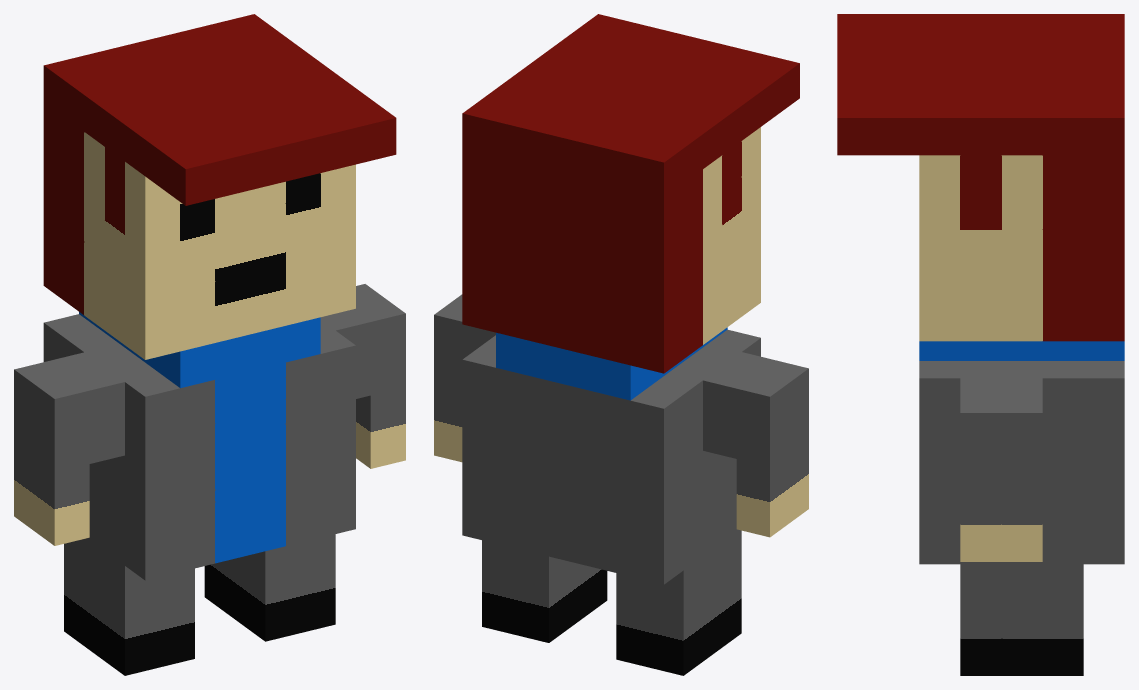
File: David.fbx
3 renders of one model, left to right at view 1: azimuth 30°, elevation 25°; view 2: azimuth 150°, elevation 25°; view 3: azimuth 270°, elevation 25°, orthographic. The views are drawn at different scales.
Parts seen in each view (by area): view 1: David; view 2: David; view 3: David.
Part boxes in pixels (left/top/right/bottom): David: left=14, top=14, right=405, bottom=675; David: left=434, top=14, right=808, bottom=675; David: left=837, top=14, right=1124, bottom=675.
Size of the model in its own units: 10 by 15 by 7.
1 material, 1 textured.
